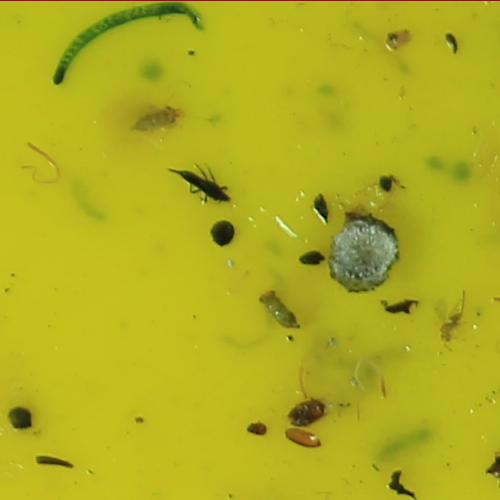psylla: (132, 96, 185, 133), (255, 290, 300, 333)
